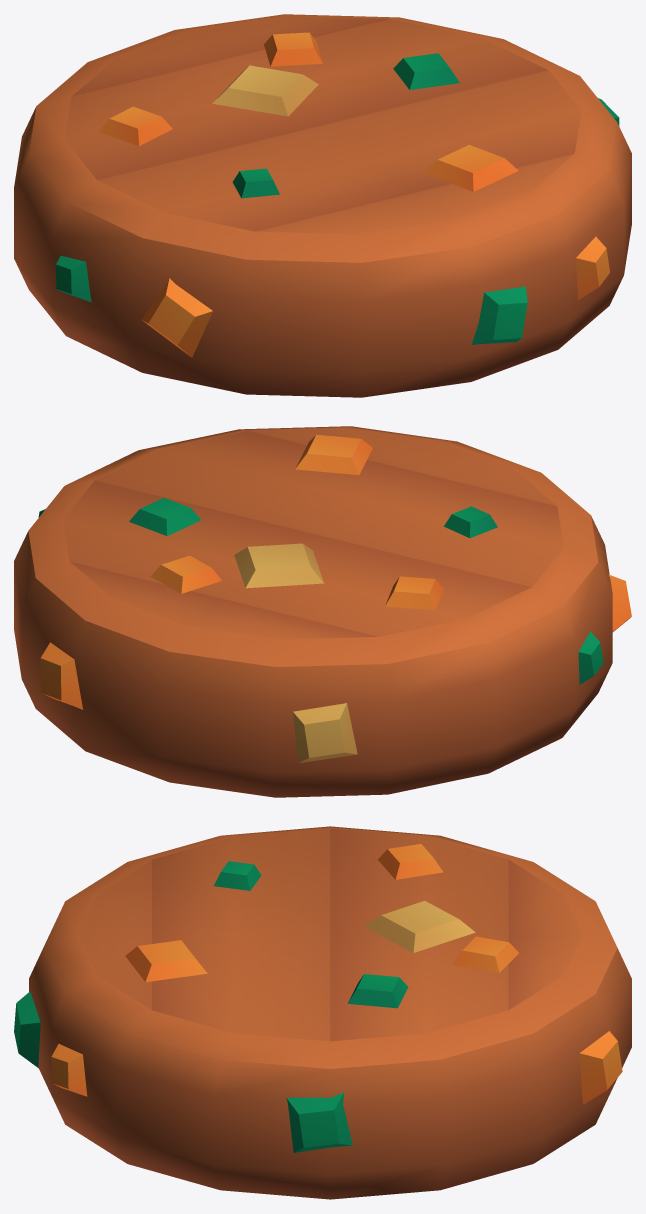
Rendered from food_ingredient_vegetableburger_cooked.obj.
3 renders of one model, top to bottom at view 1: azimuth 30°, elevation 25°; view 2: azimuth 150°, elevation 25°; view 3: azimuth 270°, elevation 25°, orthographic. The views are drawn at different scales.
Parts seen in each view (by area): view 1: food_ingredient_vegetableburger_cooked_Cylinder.176; view 2: food_ingredient_vegetableburger_cooked_Cylinder.176; view 3: food_ingredient_vegetableburger_cooked_Cylinder.176.
Part boxes in pixels (x1,y1,x2,y2): food_ingredient_vegetableburger_cooked_Cylinder.176: [14, 14, 631, 397]; food_ingredient_vegetableburger_cooked_Cylinder.176: [14, 426, 631, 797]; food_ingredient_vegetableburger_cooked_Cylinder.176: [14, 826, 631, 1199].
Bounding box in the file's own units: 0.728 × 0.216 × 0.7173.
1 material, 1 textured.
